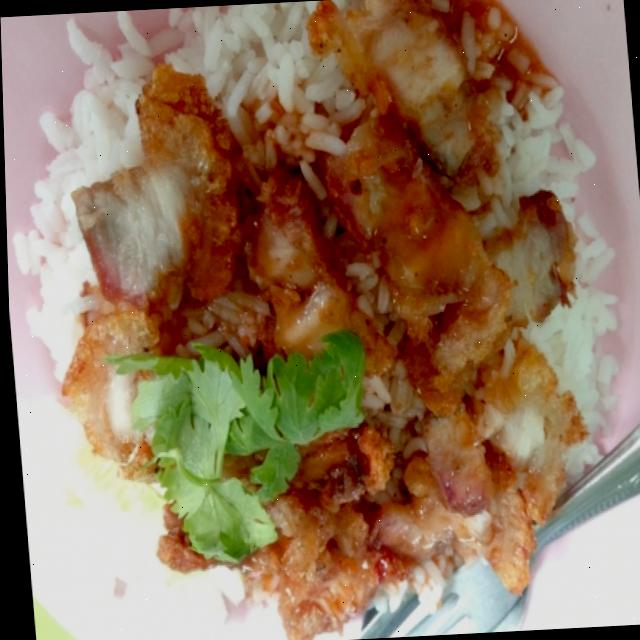米饭主食: (18, 0, 637, 640)
